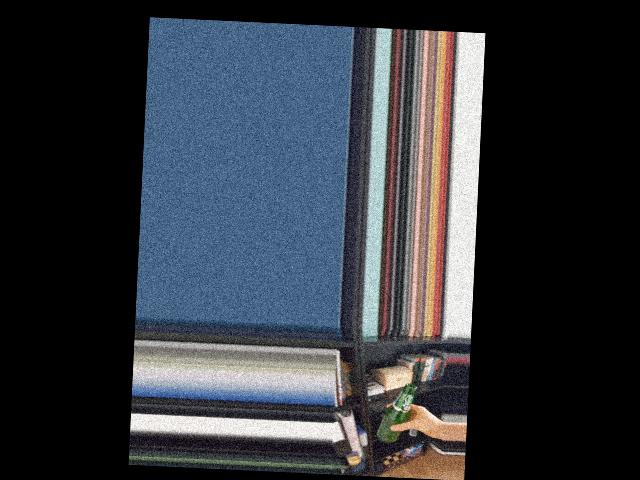beer: (375, 382, 416, 444)
